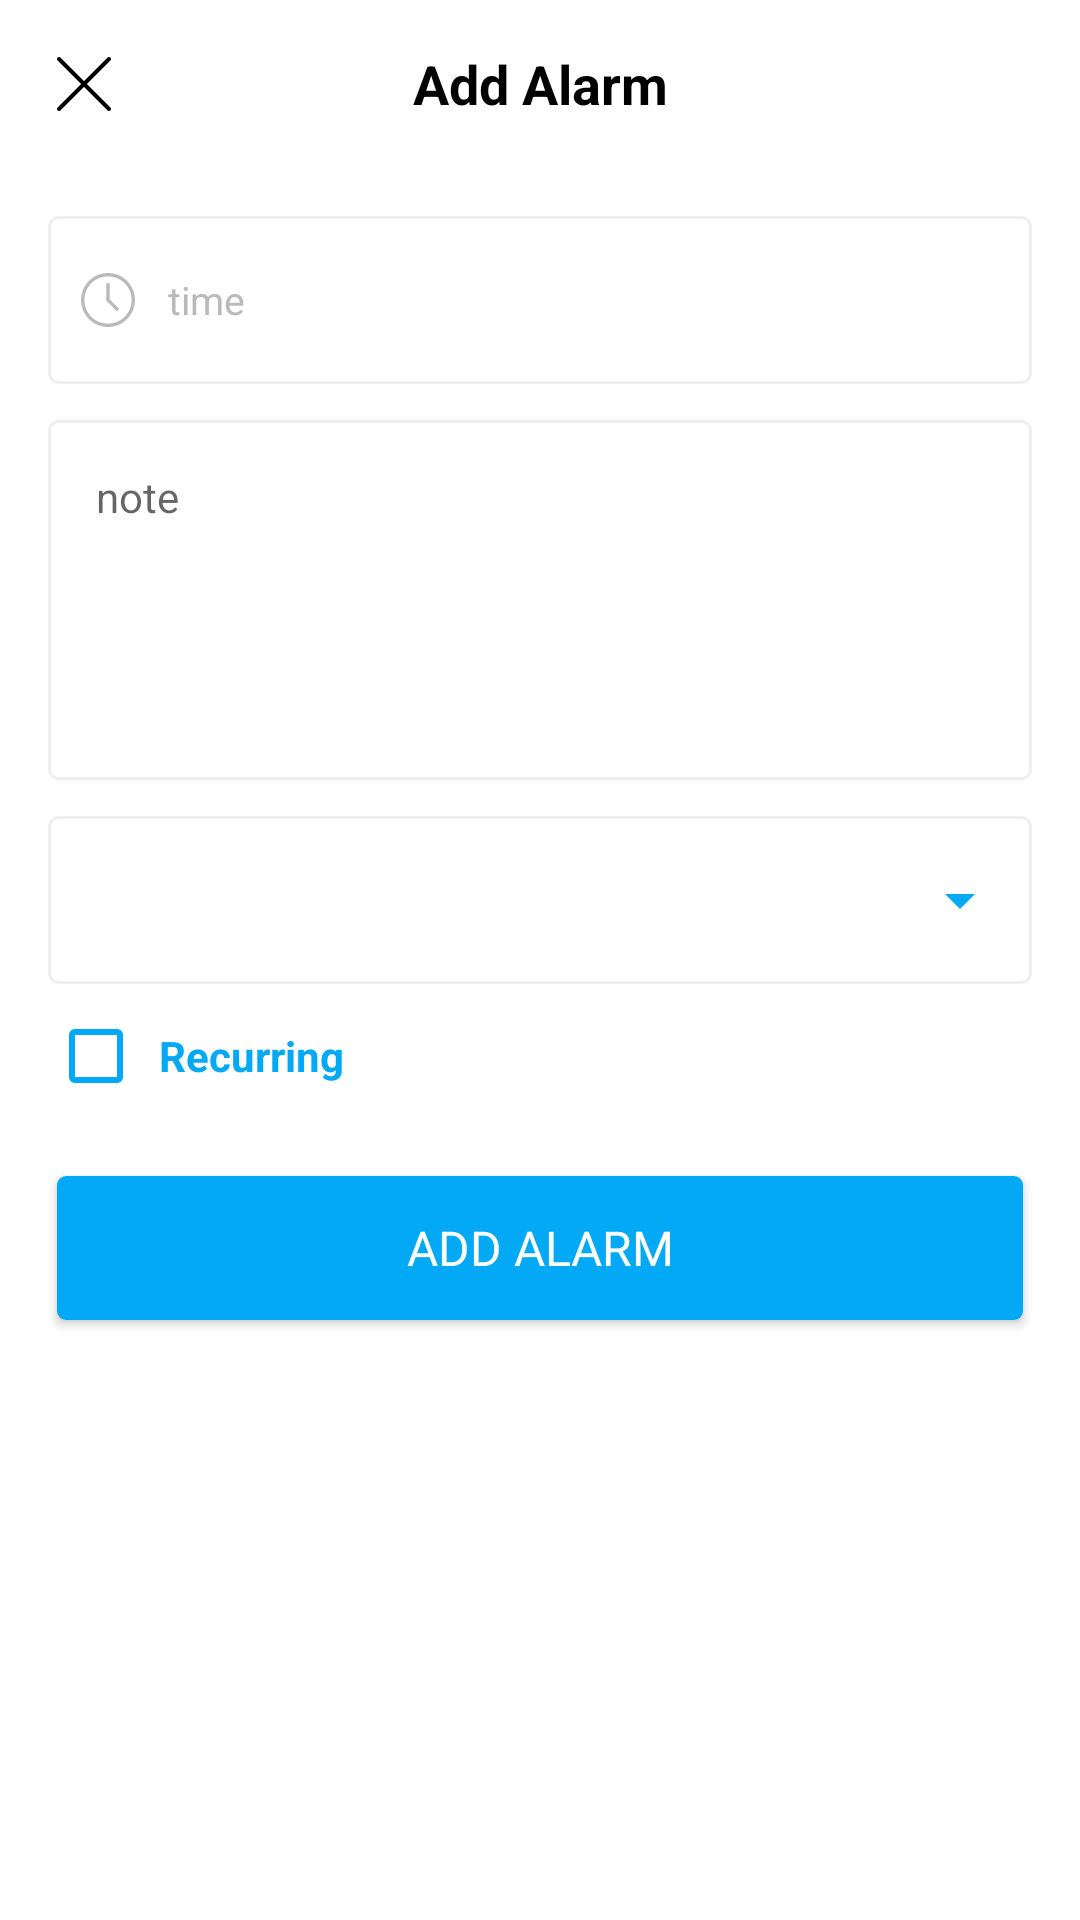

Named icons in this screenshot (1080*1920) and their centers, (x,y):
clock: (108,300)
close: (84,84)
